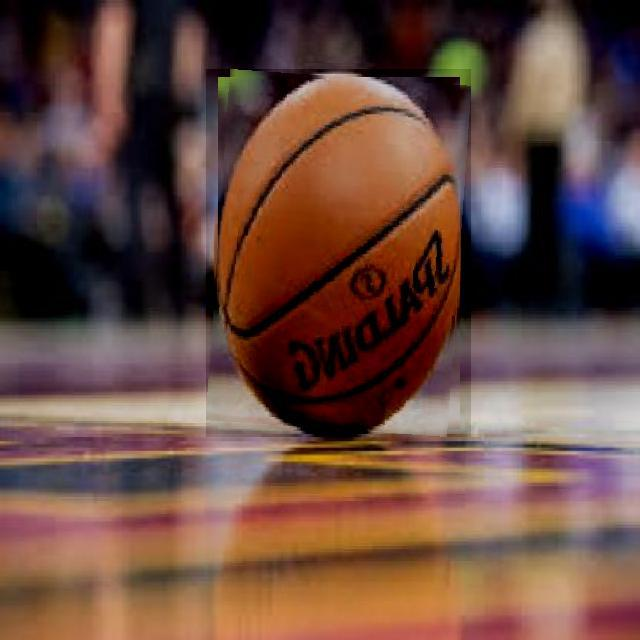Ball: (207, 69, 471, 437)
